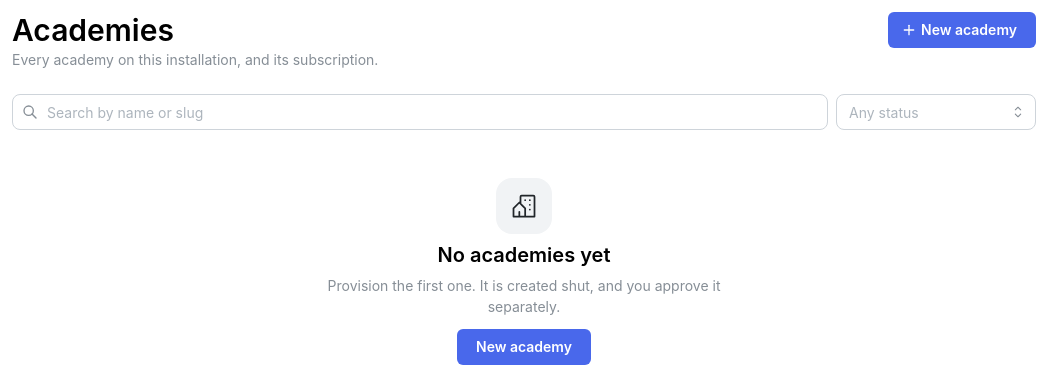
AcademiesRoute › distinguishes a filtered empty result from an empty registry
This screenshot has width=1048, height=382.
Expected: the heading "No academies yet" is shown, [438, 242, 610, 268]
Type "nothing" into the field with placeholder "Search by name or slug" at [420, 112], box [12, 94, 828, 130]
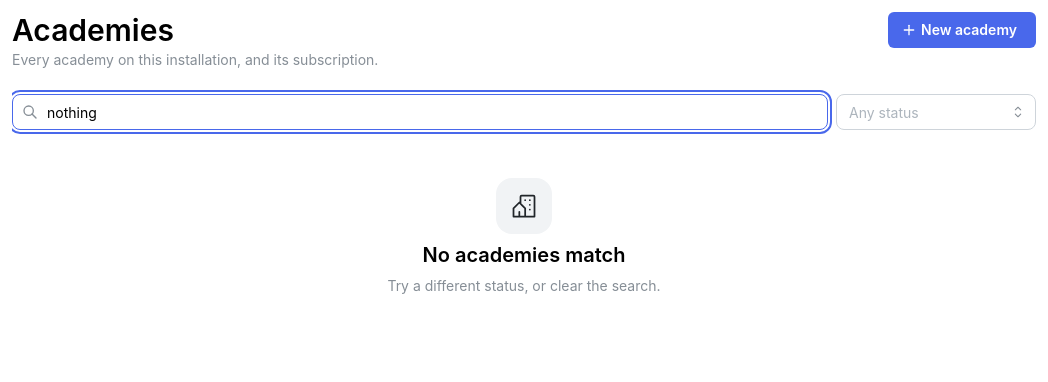
Now the heading "No academies match" is shown, box [422, 242, 625, 268]
